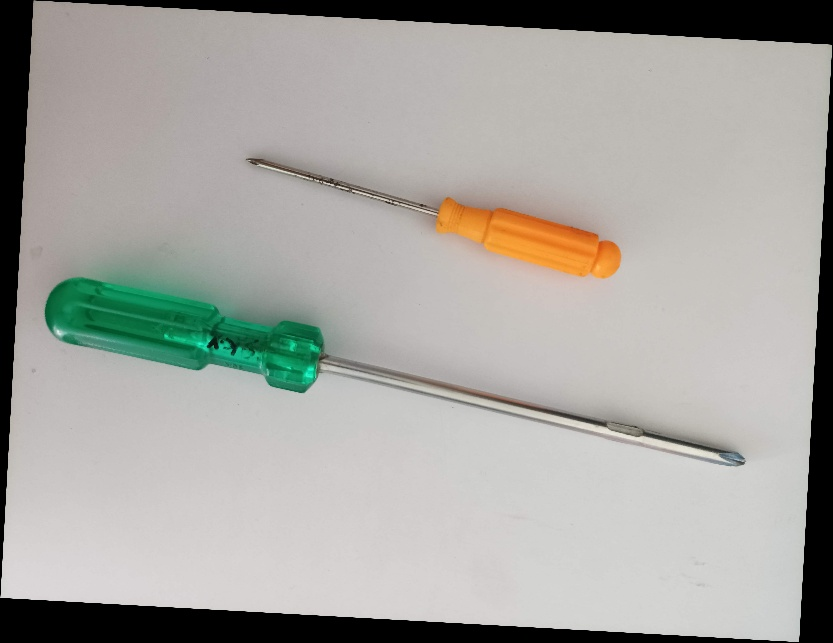screwdriver: (42, 273, 748, 464), (240, 153, 624, 279)
